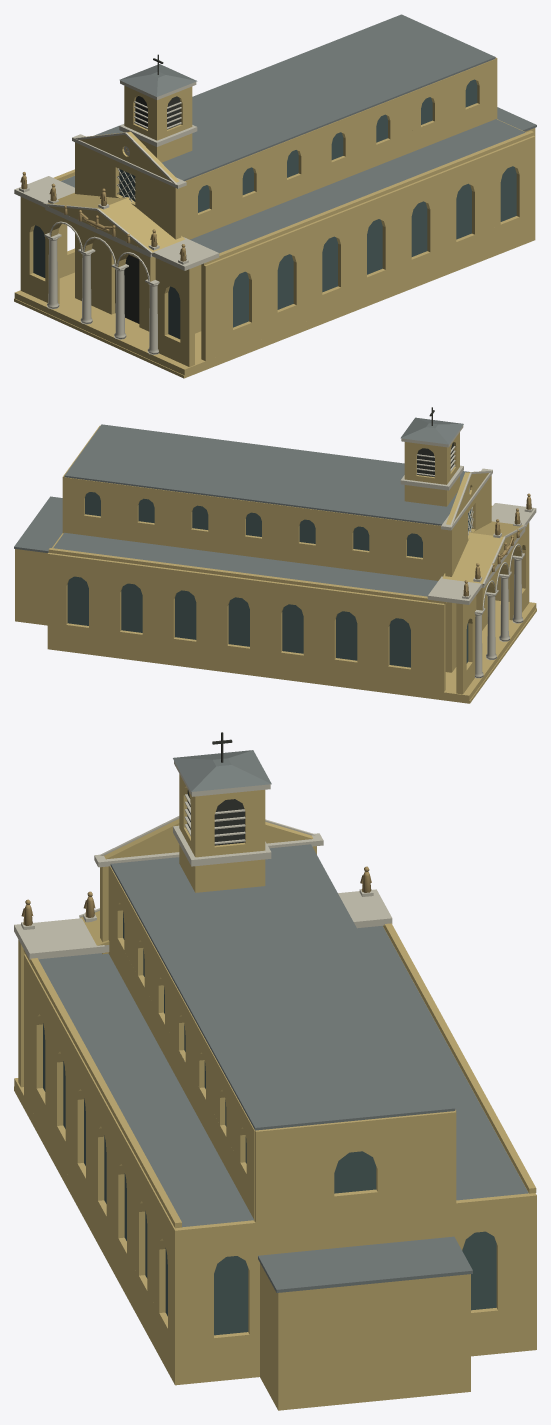
Rendered from cathedrale-saint-denis-reunion-far.glb.
The picture shows the model from 3 angles, top to bottom: view 1: azimuth 30°, elevation 25°; view 2: azimuth 150°, elevation 25°; view 3: azimuth 270°, elevation 25°; orthographic projection. The views are drawn at different scales.
Visible parts, largest first — view 1: cathedrale-saint-denis-reunion-0-plaster, cathedrale-saint-denis-reunion-0-roof, cathedrale-saint-denis-reunion-0-glass, cathedrale-saint-denis-reunion-0-trim, cathedrale-saint-denis-reunion-0-shadow, cathedrale-saint-denis-reunion-0-relief; view 2: cathedrale-saint-denis-reunion-0-plaster, cathedrale-saint-denis-reunion-0-roof, cathedrale-saint-denis-reunion-0-glass, cathedrale-saint-denis-reunion-0-trim, cathedrale-saint-denis-reunion-0-relief, cathedrale-saint-denis-reunion-0-shadow; view 3: cathedrale-saint-denis-reunion-0-plaster, cathedrale-saint-denis-reunion-0-roof, cathedrale-saint-denis-reunion-0-trim, cathedrale-saint-denis-reunion-0-glass, cathedrale-saint-denis-reunion-0-shadow.
Part boxes in pixels (x1,y1,x2,y2): cathedrale-saint-denis-reunion-0-plaster: [14, 57, 535, 378]; cathedrale-saint-denis-reunion-0-roof: [61, 14, 536, 253]; cathedrale-saint-denis-reunion-0-glass: [33, 79, 516, 339]; cathedrale-saint-denis-reunion-0-trim: [14, 80, 219, 354]; cathedrale-saint-denis-reunion-0-shadow: [115, 54, 180, 323]; cathedrale-saint-denis-reunion-0-relief: [20, 148, 186, 261]; cathedrale-saint-denis-reunion-0-plaster: [15, 425, 536, 703]; cathedrale-saint-denis-reunion-0-roof: [14, 417, 468, 596]; cathedrale-saint-denis-reunion-0-glass: [67, 492, 471, 667]; cathedrale-saint-denis-reunion-0-trim: [400, 425, 536, 678]; cathedrale-saint-denis-reunion-0-relief: [463, 486, 531, 596]; cathedrale-saint-denis-reunion-0-shadow: [417, 407, 453, 477]; cathedrale-saint-denis-reunion-0-plaster: [14, 774, 536, 1410]; cathedrale-saint-denis-reunion-0-roof: [38, 750, 528, 1292]; cathedrale-saint-denis-reunion-0-trim: [14, 761, 392, 959]; cathedrale-saint-denis-reunion-0-glass: [43, 912, 496, 1335]; cathedrale-saint-denis-reunion-0-shadow: [187, 732, 244, 845].
Size of the model in its own units: 52.83 by 27 by 32.81.
